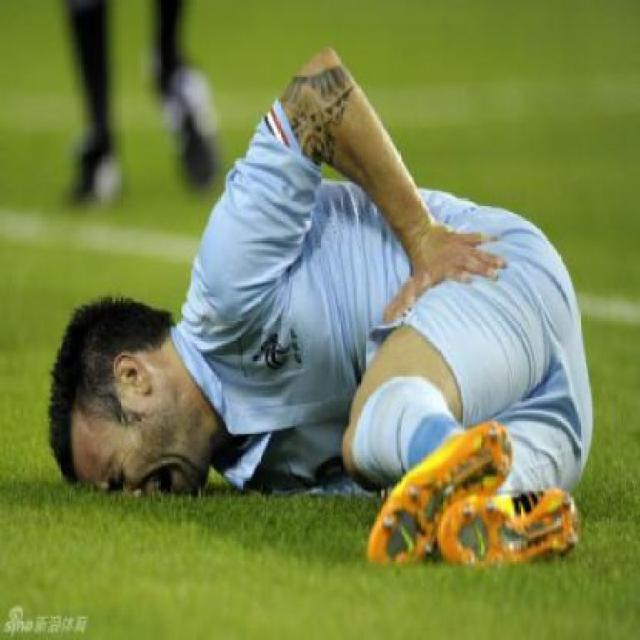fall: (34, 15, 609, 548)
